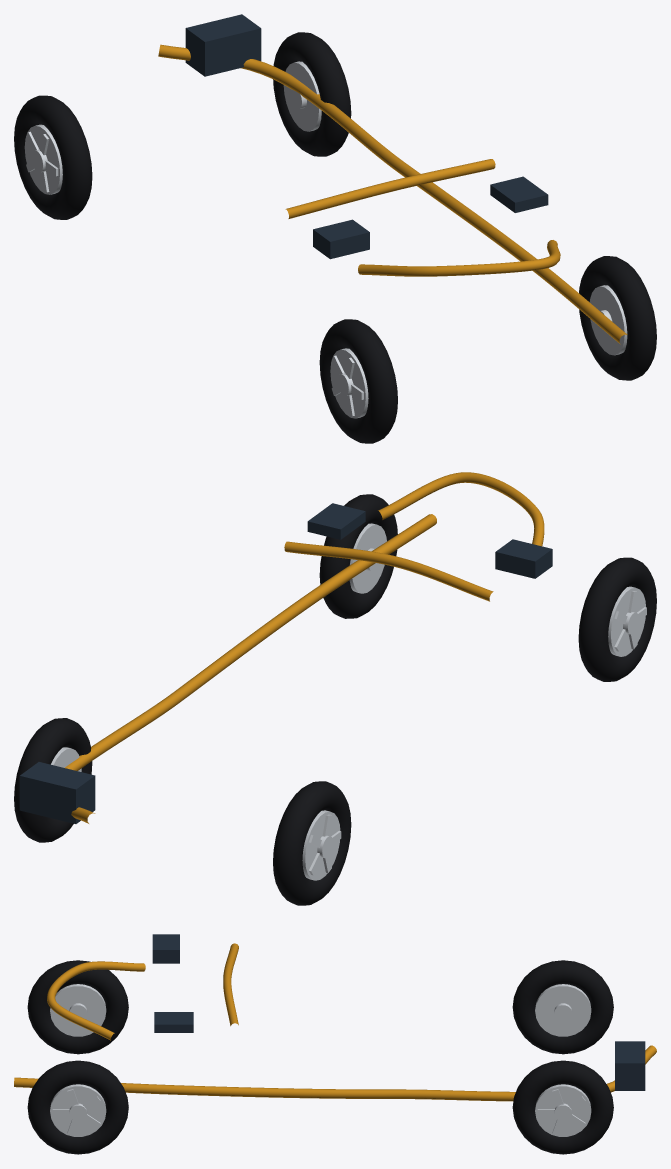
Rendered from vehicle-extras.glb.
The picture shows the model from 3 angles, top to bottom: view 1: azimuth 30°, elevation 25°; view 2: azimuth 150°, elevation 25°; view 3: azimuth 270°, elevation 25°; orthographic projection. The views are drawn at different scales.
Visible parts, largest first — view 1: Harness_Main, Susp_Tire_RL, Susp_Tire_FL, Susp_Tire_FR, Susp_Tire_RR, Harness_Battery, Harness_Dash, Harness_EngineBay, Susp_Rim_FL, Susp_Rim_RL, Harness_FuseBox_EngineBay, Susp_Rim_RR (+2 smaller); view 2: Susp_Tire_FL, Harness_Main, Susp_Tire_RL, Susp_Tire_FR, Susp_Tire_RR, Harness_Battery, Harness_Dash, Harness_EngineBay, Susp_Rim_RL, Susp_Rim_FL, Harness_FuseBox_EngineBay, Harness_ECU (+1 smaller); view 3: Susp_Tire_FR, Susp_Tire_RL, Susp_Tire_RR, Susp_Tire_FL, Harness_Main, Susp_Rim_RL, Susp_Rim_RR, Susp_Rim_FR, Susp_Rim_FL, Harness_EngineBay, Harness_Battery, Harness_FuseBox_EngineBay (+2 smaller).
Part boxes in pixels (bbox=[...]): Harness_Main: bbox=[158, 44, 627, 344]; Susp_Tire_RL: bbox=[14, 95, 92, 219]; Susp_Tire_FL: bbox=[319, 319, 397, 443]; Susp_Tire_FR: bbox=[579, 256, 656, 380]; Susp_Tire_RR: bbox=[273, 32, 351, 156]; Harness_Battery: bbox=[185, 14, 261, 76]; Harness_Dash: bbox=[285, 159, 495, 218]; Harness_EngineBay: bbox=[358, 240, 560, 276]; Susp_Rim_FL: bbox=[330, 348, 368, 418]; Susp_Rim_RL: bbox=[24, 124, 62, 194]; Harness_FuseBox_EngineBay: bbox=[313, 219, 369, 259]; Susp_Rim_RR: bbox=[283, 61, 321, 131]; Susp_Tire_FL: bbox=[578, 557, 656, 681]; Harness_Main: bbox=[65, 514, 436, 823]; Susp_Tire_RL: bbox=[273, 781, 351, 905]; Susp_Tire_FR: bbox=[319, 494, 397, 618]; Susp_Tire_RR: bbox=[14, 718, 92, 842]; Harness_Battery: bbox=[19, 762, 95, 823]; Harness_Dash: bbox=[284, 541, 493, 601]; Harness_EngineBay: bbox=[378, 472, 544, 546]; Susp_Rim_RL: bbox=[302, 810, 341, 880]; Susp_Rim_FL: bbox=[608, 586, 646, 656]; Harness_FuseBox_EngineBay: bbox=[495, 539, 552, 578]; Harness_ECU: bbox=[307, 503, 365, 539]; Susp_Tire_FR: bbox=[27, 1060, 128, 1154]; Susp_Tire_RL: bbox=[512, 960, 613, 1054]; Susp_Tire_RR: bbox=[512, 1060, 613, 1154]; Susp_Tire_FL: bbox=[27, 960, 128, 1054]; Harness_Main: bbox=[14, 1045, 656, 1101]; Susp_Rim_RL: bbox=[535, 984, 591, 1036]; Susp_Rim_RR: bbox=[535, 1084, 591, 1136]; Susp_Rim_FR: bbox=[50, 1084, 106, 1136]; Susp_Rim_FL: bbox=[50, 984, 106, 1036]; Harness_EngineBay: bbox=[47, 961, 145, 1040]; Harness_Battery: bbox=[615, 1041, 645, 1090]; Harness_FuseBox_EngineBay: bbox=[152, 934, 179, 963].
Size of the model in its own units: 1.75 by 0.913 by 4.23.
